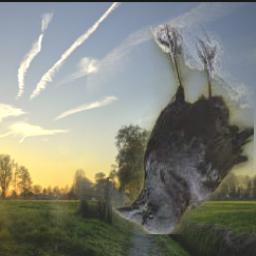Crow: (112, 25, 254, 234)
